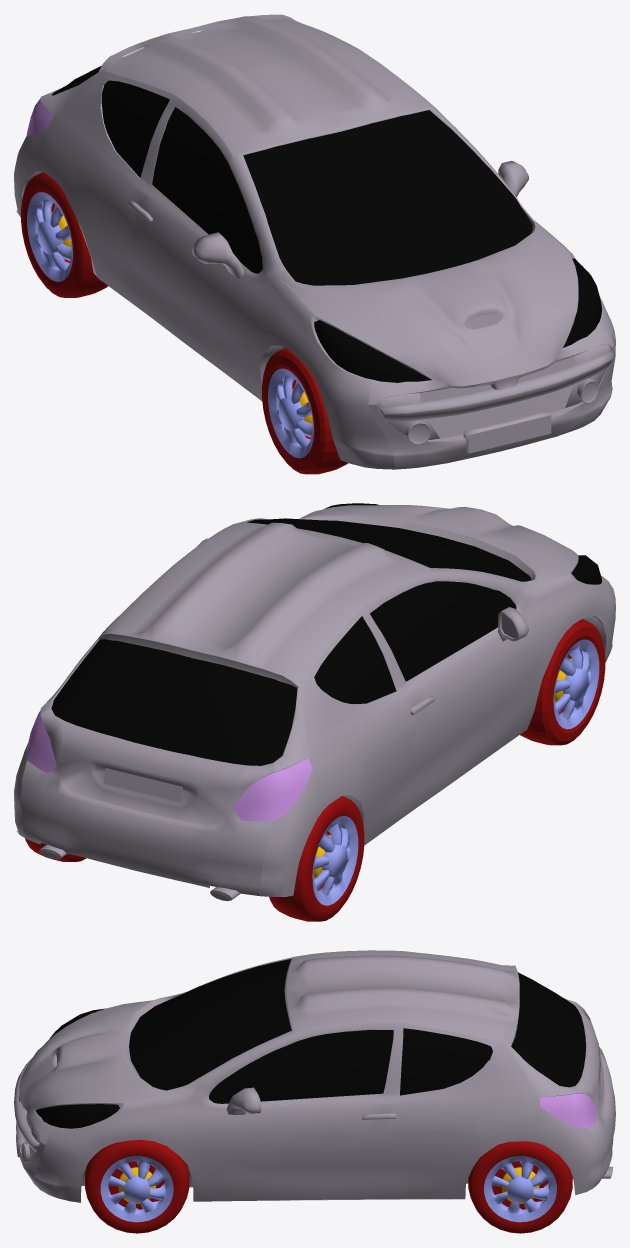
Rendered from Sport Car.FBX.
The picture shows the model from 3 angles, top to bottom: view 1: azimuth 30°, elevation 25°; view 2: azimuth 150°, elevation 25°; view 3: azimuth 270°, elevation 25°; orthographic projection. The views are drawn at different scales.
Parts seen in each view (by area): view 1: Sport_Car, Right_front_wheel, Right_Rear_wheel; view 2: Sport_Car, Right_Rear_wheel, Right_front_wheel; view 3: Sport_Car, Left_front_wheel, Left_Rear_wheel.
Part boxes in pixels (x1,y1,x2,y2): Sport_Car: (14,14,615,469); Right_front_wheel: (262,348,348,474); Right_Rear_wheel: (21,172,107,297); Sport_Car: (14,503,615,901); Right_Rear_wheel: (269,796,364,921); Right_front_wheel: (520,619,605,745); Sport_Car: (14,950,615,1202); Left_front_wheel: (85,1139,189,1233); Left_Rear_wheel: (468,1141,572,1233).
Size of the model in its own units: 80.34 by 60.35 by 159.
